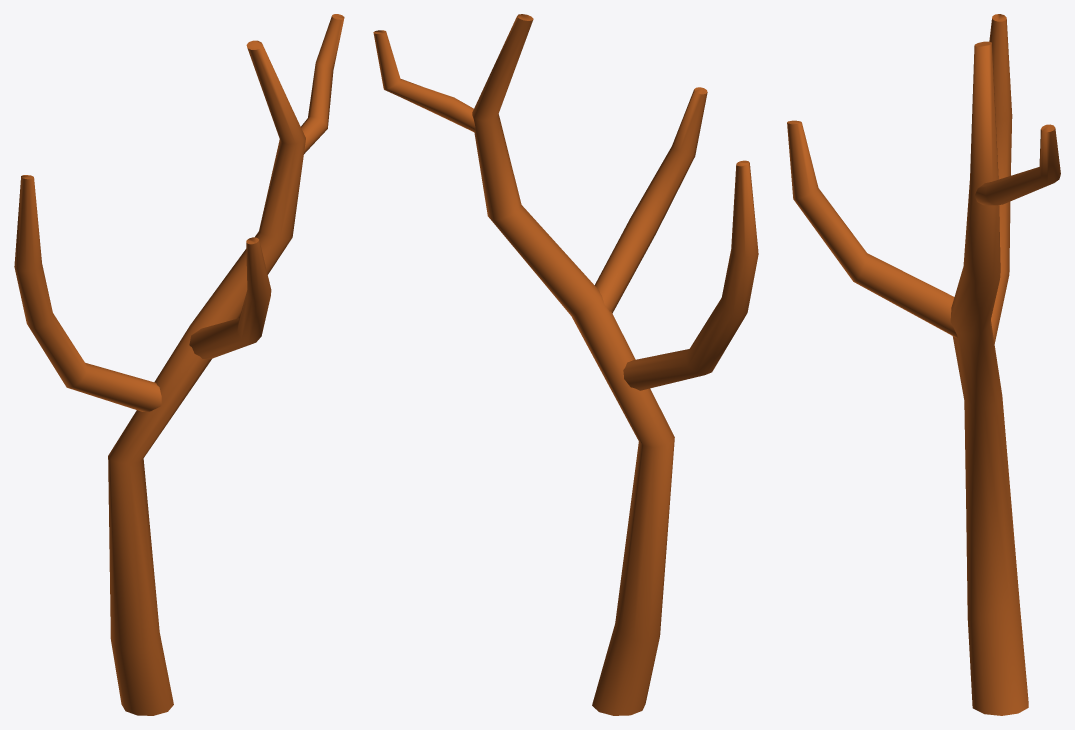
File: TreeTrunk_14.fbx
The picture shows the model from 3 angles, left to right: view 1: azimuth 30°, elevation 25°; view 2: azimuth 150°, elevation 25°; view 3: azimuth 270°, elevation 25°; orthographic projection. The views are drawn at different scales.
Visible parts, largest first — view 1: TreeTrunk_14; view 2: TreeTrunk_14; view 3: TreeTrunk_14.
Part boxes in pixels (bbox=[...]): TreeTrunk_14: bbox=[14, 14, 344, 715]; TreeTrunk_14: bbox=[373, 14, 758, 715]; TreeTrunk_14: bbox=[787, 14, 1060, 715].
Size of the model in its own units: 221 by 388 by 135.
